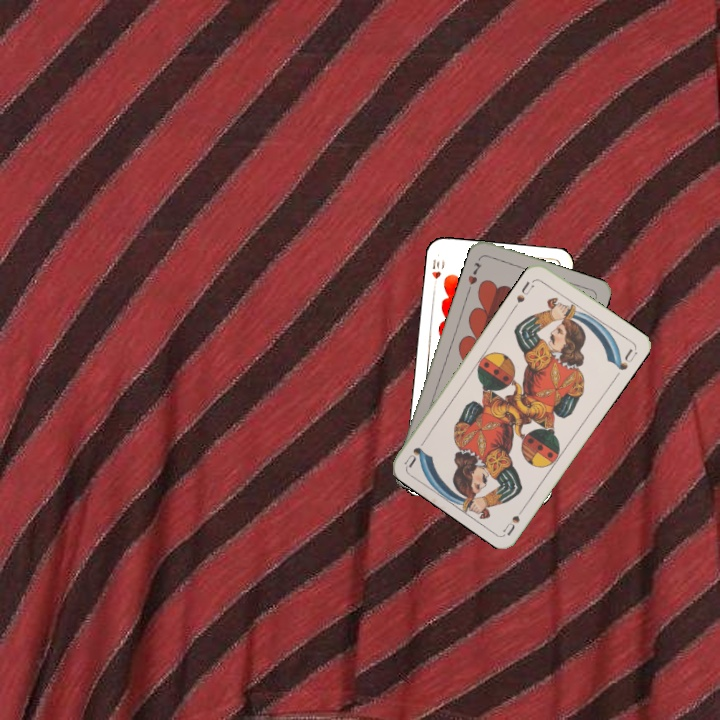H10: (428, 255, 447, 291)
H7: (464, 258, 484, 287)
SU: (499, 500, 529, 537), (513, 277, 536, 305)
